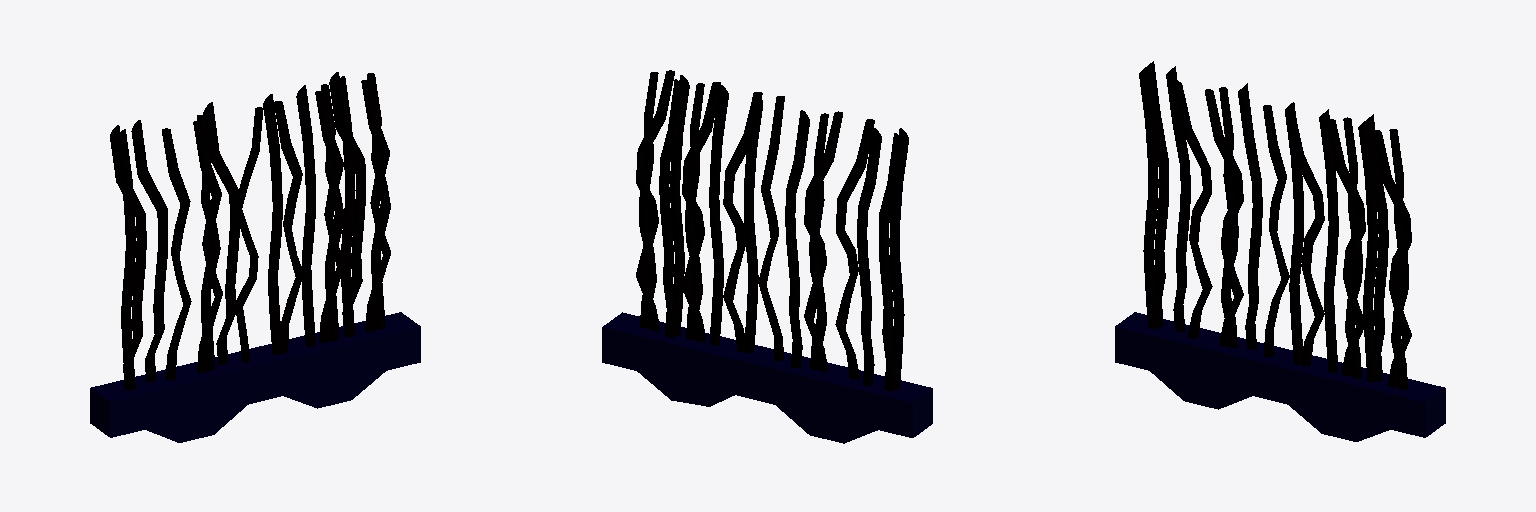
Rendered from Platform2.obj.
The picture shows the model from 3 angles: view 1: azimuth 30°, elevation 25°; view 2: azimuth 150°, elevation 25°; view 3: azimuth 330°, elevation 25°; orthographic projection.
Parts seen in each view (by area): view 1: pCube30; view 2: pCube30; view 3: pCube30.
Boxes of the visible parts, <box> form: pCube30: <box>90,72,420,442</box>; pCube30: <box>602,70,932,443</box>; pCube30: <box>1115,61,1445,441</box>.
Bounding box in the file's own units: 8.93 × 8.75 × 1.03.